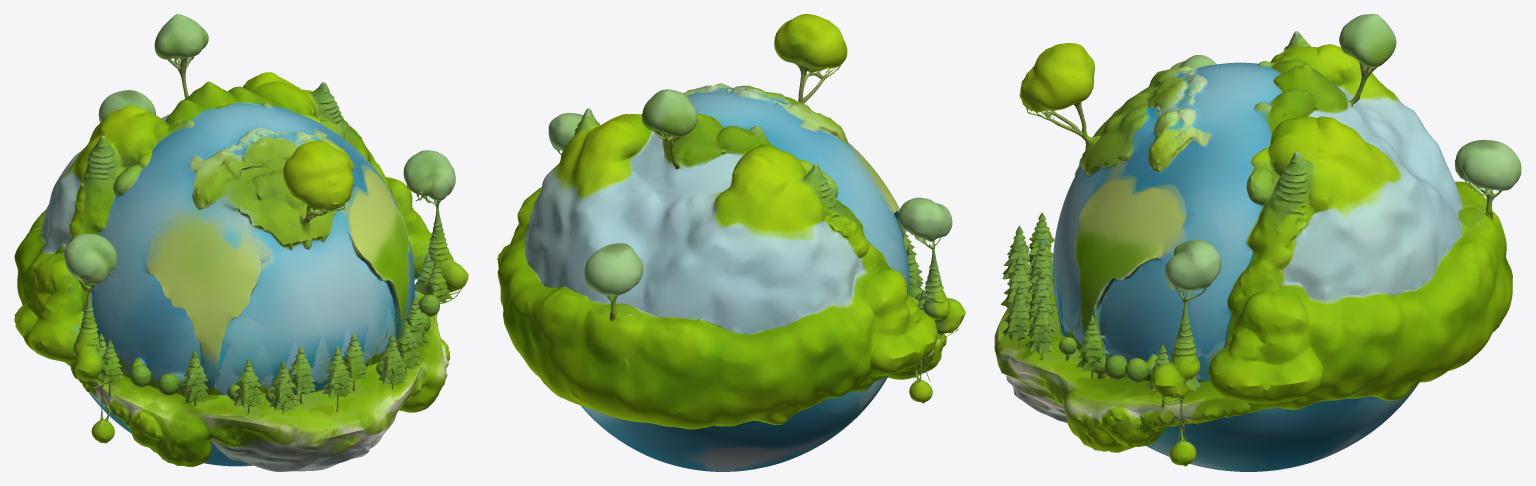
Rendered from hitem3d222.glb.
The picture shows the model from 3 angles, left to right: view 1: azimuth 30°, elevation 25°; view 2: azimuth 150°, elevation 25°; view 3: azimuth 270°, elevation 25°; orthographic projection. The views are drawn at different scales.
Parts seen in each view (by area): view 1: model; view 2: model; view 3: model.
Boxes of the visible parts, bbox=[...] form: model: bbox=[14, 14, 468, 471]; model: bbox=[497, 14, 965, 471]; model: bbox=[994, 14, 1521, 471].
Bounding box in the file's own units: 1.89 × 1.74 × 1.9.
1 material, 1 textured.
